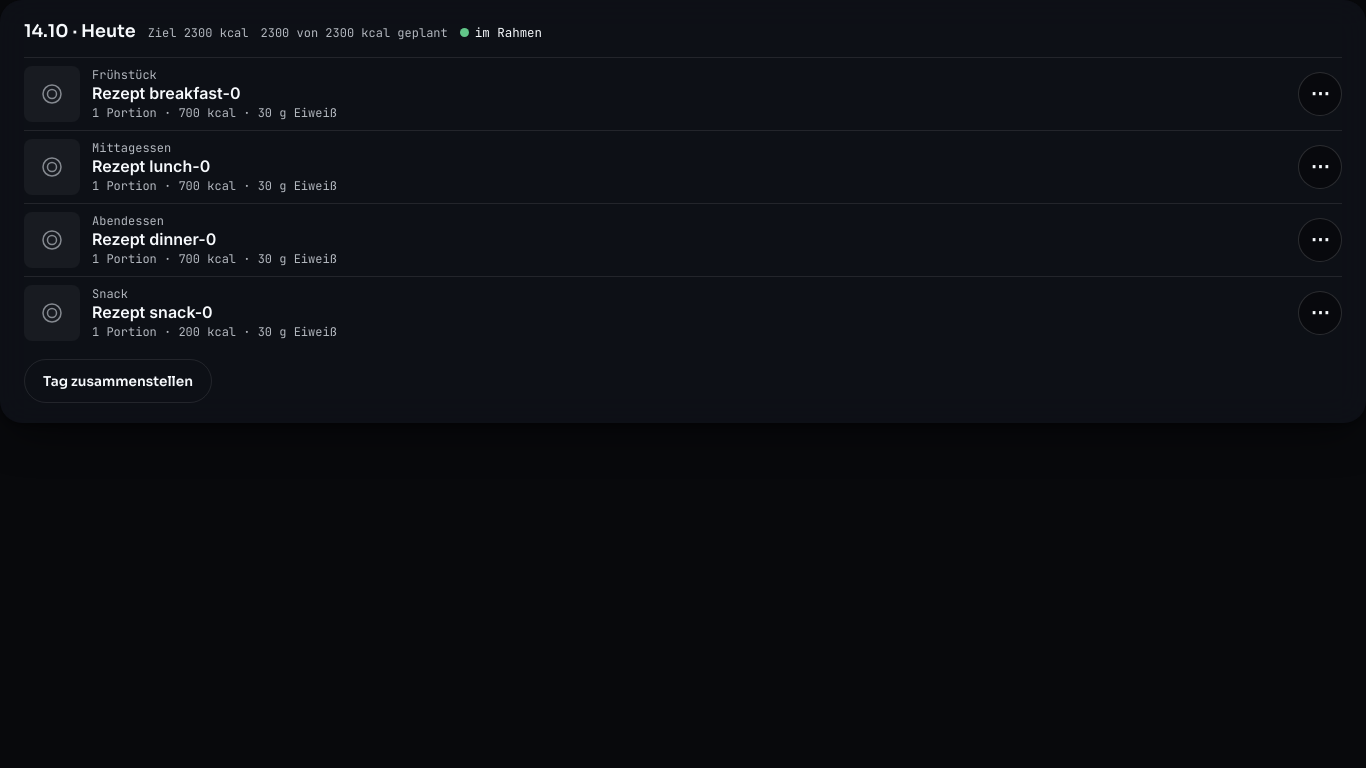
Test: DayCard › Tippen auf die Zeile öffnet das Detailblatt
Click the text "Rezept lunch-0" at [151, 166], box [92,156,210,176]
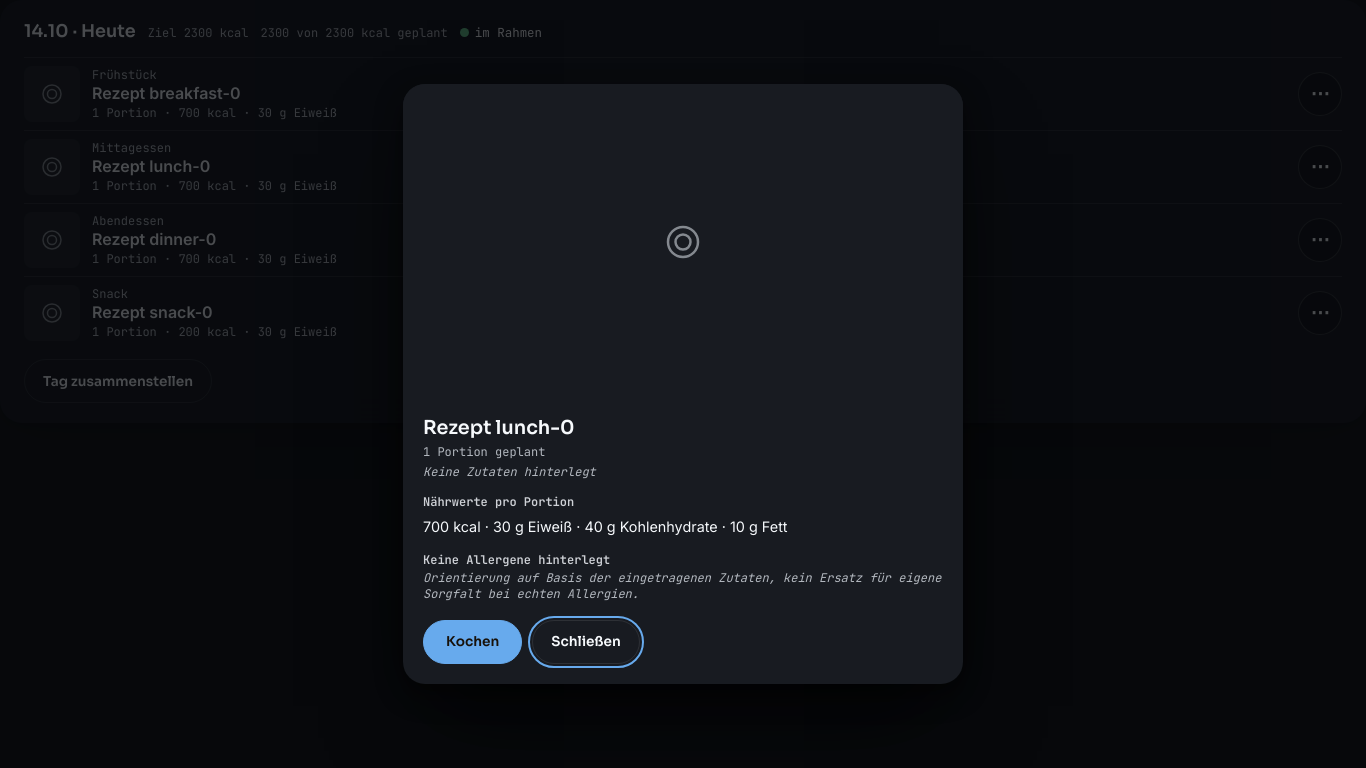
Expected: the dialog named "Details: Rezept lunch-0" is shown, [403,84,963,684]
